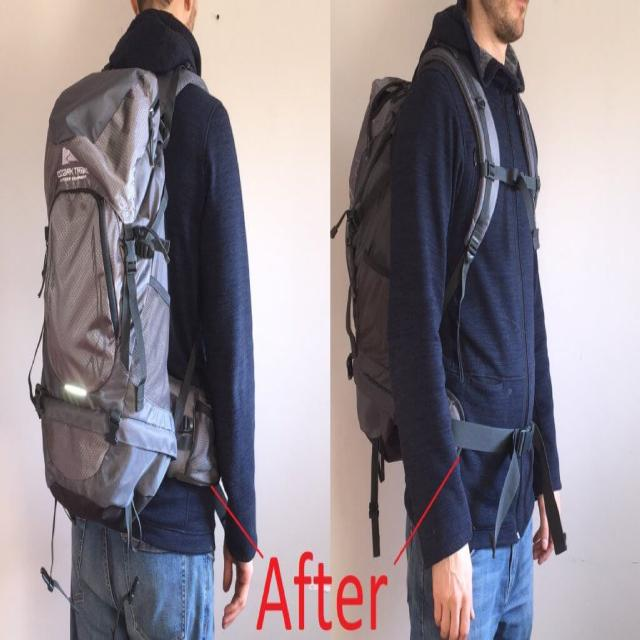backpack: (29, 63, 219, 533), (336, 44, 517, 481)
